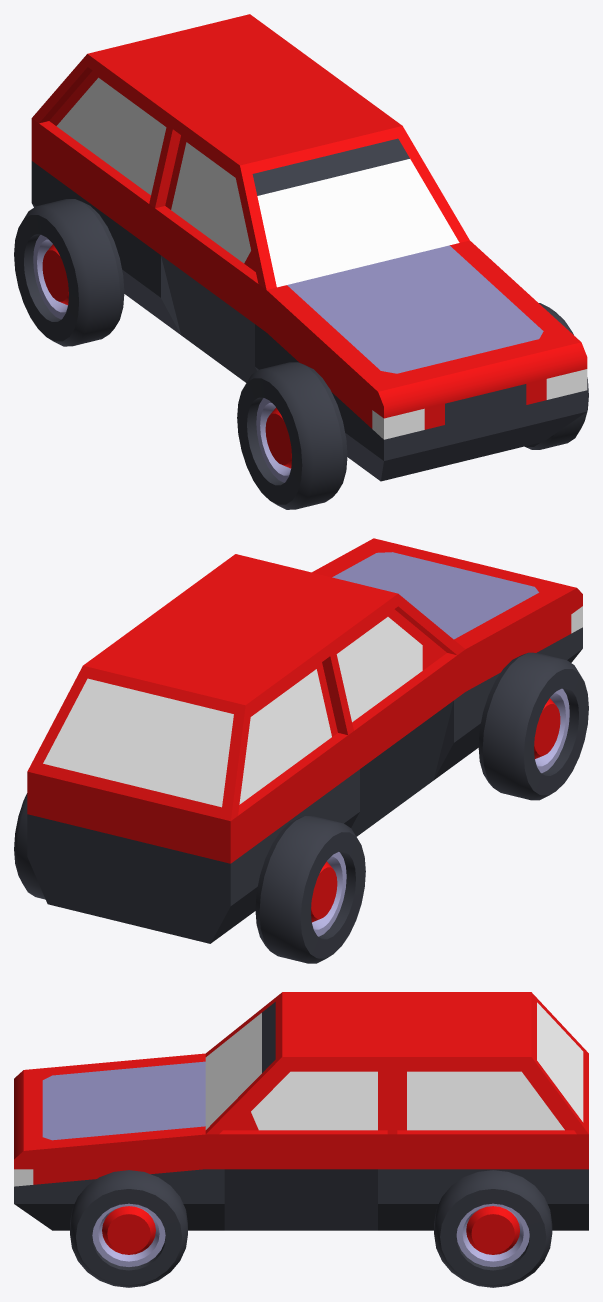
Rendered from CarRed.fbx.
The picture shows the model from 3 angles, top to bottom: view 1: azimuth 30°, elevation 25°; view 2: azimuth 150°, elevation 25°; view 3: azimuth 270°, elevation 25°; orthographic projection. The views are drawn at different scales.
Parts seen in each view (by area): view 1: body_frontStandard, body_topStandard, wheel_classic (×3), body_topBackStation, body_edge, body_standard; view 2: body_topBackStation, body_standard, wheel_classic (×3), body_topStandard, body_frontStandard, body_edge; view 3: body_frontStandard, body_topBackStation, body_topStandard, wheel_classic (×2), body_edge, body_standard.
Boxes of the visible parts, x1,y1,x2,y2 form: body_frontStandard: (266, 240, 587, 481); body_topStandard: (149, 74, 469, 289); wheel_classic (×3): (14, 199, 588, 509); body_topBackStation: (32, 14, 331, 194); body_edge: (149, 204, 266, 382); body_standard: (31, 118, 168, 325); body_topBackStation: (27, 605, 337, 821); body_standard: (27, 733, 347, 943); wheel_classic (×3): (14, 652, 588, 963); body_topStandard: (165, 554, 465, 734); body_frontStandard: (312, 538, 582, 771); body_edge: (346, 649, 465, 836); body_frontStandard: (14, 1053, 205, 1230); body_topBackStation: (397, 992, 588, 1134); body_topStandard: (205, 992, 397, 1134); wheel_classic (×2): (70, 1170, 552, 1287); body_edge: (205, 1130, 397, 1230); body_standard: (397, 1130, 588, 1230).
Bounding box in the file's own units: 14.11 × 12.08 × 30.
